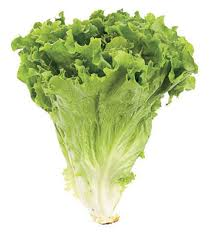lettuce: (10, 10, 198, 227)
